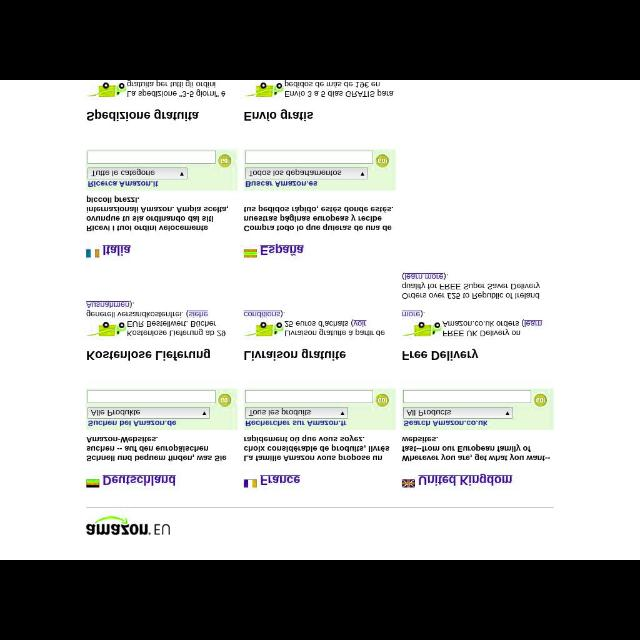icon: (505, 410, 509, 416), (202, 411, 206, 415), (180, 172, 184, 176), (360, 172, 364, 176), (341, 411, 344, 415)
image: (84, 514, 172, 538), (242, 320, 284, 338), (402, 320, 443, 338), (86, 321, 128, 337), (85, 82, 127, 98), (243, 82, 284, 98), (218, 392, 232, 408), (376, 154, 390, 168), (218, 154, 232, 168), (242, 248, 260, 258), (375, 394, 389, 406), (533, 394, 547, 406), (86, 478, 100, 488), (243, 479, 257, 489), (86, 248, 100, 258), (402, 479, 416, 488)
input: (246, 390, 374, 404), (88, 391, 216, 404), (86, 152, 216, 164), (404, 390, 530, 402), (244, 152, 374, 162)
link: (417, 474, 513, 486), (102, 474, 178, 486), (258, 472, 302, 488), (258, 244, 304, 256), (101, 244, 132, 256), (86, 300, 130, 308), (404, 272, 444, 280), (244, 310, 282, 318), (189, 309, 209, 317), (523, 319, 543, 327), (402, 310, 421, 318), (352, 319, 368, 327)
spinner: (88, 406, 210, 419), (244, 167, 370, 179), (404, 407, 514, 419), (245, 406, 349, 418), (88, 167, 188, 179)
text: (85, 195, 228, 233), (401, 434, 551, 464), (243, 204, 395, 232), (243, 434, 391, 462), (87, 435, 227, 463), (402, 280, 542, 300), (127, 80, 229, 98), (284, 81, 396, 97), (86, 348, 212, 362), (128, 320, 226, 336), (244, 348, 348, 362), (86, 109, 200, 121), (442, 320, 522, 336), (401, 348, 479, 362), (284, 328, 386, 338), (242, 108, 314, 122), (246, 419, 346, 427), (86, 310, 184, 318), (248, 169, 342, 177), (404, 419, 488, 427), (248, 407, 312, 417), (88, 419, 176, 426), (246, 180, 318, 188), (89, 180, 160, 188), (284, 320, 350, 328), (92, 169, 156, 177), (91, 408, 141, 416), (406, 409, 452, 417)
